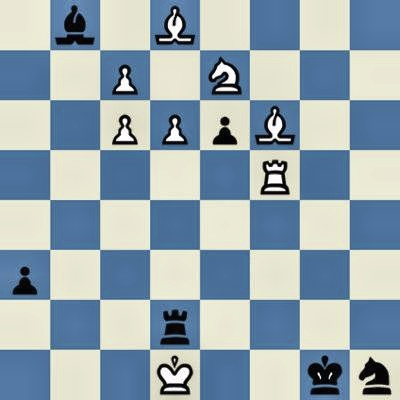black-bishop: (50, 0, 100, 50)
black-king: (300, 350, 350, 400)
black-knight: (350, 350, 400, 400)
black-pawn: (200, 100, 250, 150), (0, 250, 50, 300)
black-rook: (150, 300, 200, 350)
white-bishop: (150, 0, 200, 50), (250, 100, 300, 150)
white-king: (150, 350, 200, 400)
white-knight: (200, 50, 250, 100)
white-pawn: (100, 50, 150, 100), (100, 100, 150, 150), (150, 100, 200, 150)
white-rook: (250, 150, 300, 200)
